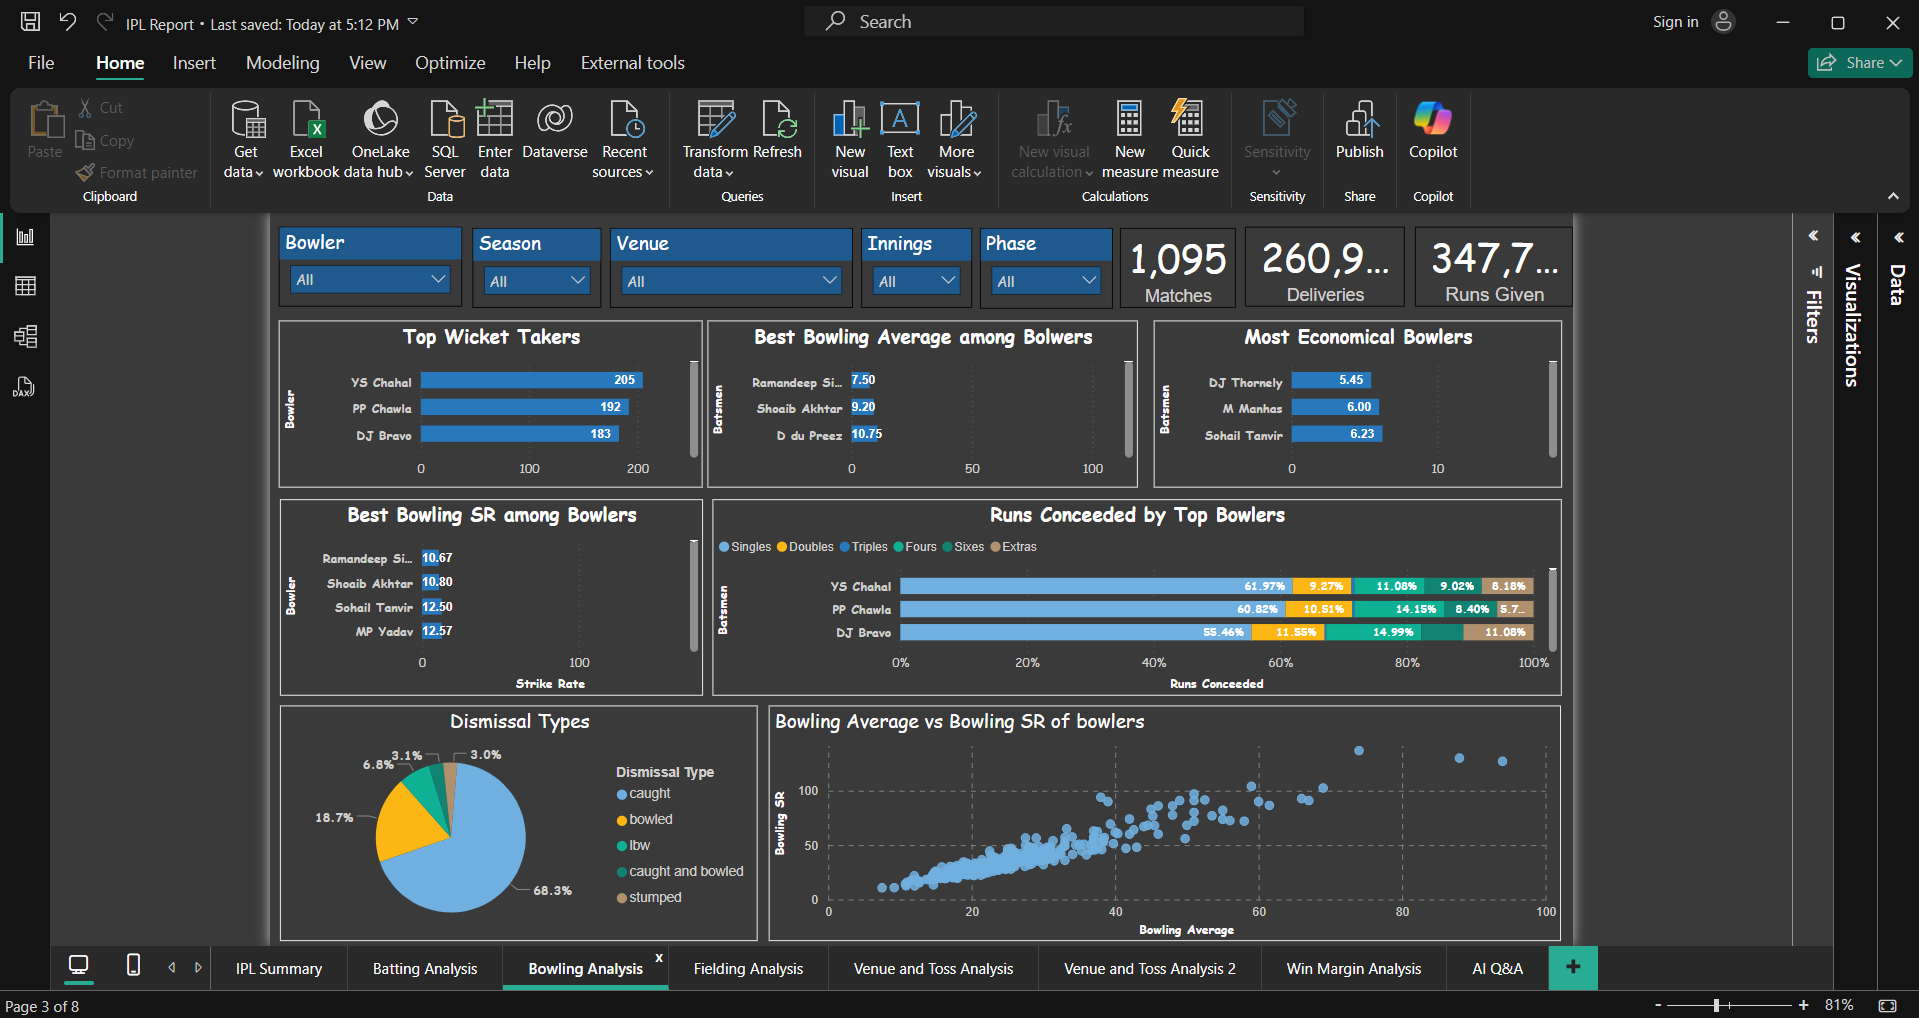

This screenshot's page, from the dashboard's own definition file:
{"tool":"powerbi","page":{"name":"Bowling Analysis","canvas":[1280,720],"ordinal":2},"visuals":[{"type":"slicer","title":"Bowler","fields":{"Values":["IPL_Ball_by_Ball.Bowler"]},"box":[8.4,13.3,179.7,78.4],"z":0},{"type":"clusteredBarChart","title":"Top Wicket Takers","fields":{"Category":["IPL_Ball_by_Ball.Bowler"],"Y":["IPL_Ball_by_Ball.IsBowler'sWicket"]},"box":[8.4,106.1,416.1,164],"z":1000},{"type":"clusteredBarChart","title":"Best Bowling Average among Bolwers","fields":{"Category":["IPL_Ball_by_Ball.Bowler"],"Y":["IPL_Ball_by_Ball.Bowling Average"]},"box":[429.3,106.1,422.1,164],"z":2000},{"type":"clusteredBarChart","title":"Most Economical Bowlers","fields":{"Category":["IPL_Ball_by_Ball.Bowler"],"Y":["IPL_Ball_by_Ball.ECO"]},"box":[867.1,106.1,400.4,164],"z":3000},{"type":"clusteredBarChart","title":"Best Bowling SR among Bowlers","fields":{"Y":["IPL_Ball_by_Ball.BOWSR"],"Category":["IPL_Ball_by_Ball.Bowler"]},"box":[9.6,281,414.9,193],"z":4000},{"type":"hundredPercentStackedBarChart","title":"Runs Conceeded by Top Bowlers","fields":{"Y":["IPL_Ball_by_Ball.Singles","IPL_Ball_by_Ball.Doubles","IPL_Ball_by_Ball.Triples","IPL_Ball_by_Ball.Fours","IPL_Ball_by_Ball.Sixes","IPL_Ball_by_Ball.ExtrasRun"],"Category":["IPL_Ball_by_Ball.Bowler"]},"box":[434.2,281,833.4,193],"z":5000},{"type":"slicer","title":"Season","fields":{"Values":["IPL_Matches.Season"]},"box":[199,14.5,126.6,78.4],"z":6000},{"type":"slicer","title":"Venue","fields":{"Values":["IPL_Matches.Venue"]},"box":[334.1,14.5,238.8,78.4],"z":7000},{"type":"slicer","title":"Innings","fields":{"Values":["IPL_Ball_by_Ball.Innings"]},"box":[580.1,14.5,108.5,78.4],"z":8000},{"type":"scatterChart","title":"Bowling Average vs Bowling SR of bowlers","fields":{"Category":["IPL_Ball_by_Ball.Bowler"],"Y":["IPL_Ball_by_Ball.BOWSR"],"X":["IPL_Ball_by_Ball.BOWAVE"]},"box":[489.6,483.6,777.9,231.6],"z":9000},{"type":"pieChart","title":"Dismissal Types","fields":{"Category":["IPL_Ball_by_Ball.Kind"],"Y":["IPL_Ball_by_Ball.Wickets"]},"box":[9.6,483.6,469.1,231.6],"z":10000},{"type":"card","fields":{"Values":["IPL_Ball_by_Ball.ID"]},"box":[834.6,14.5,113.4,78.4],"z":11000},{"type":"card","fields":{"Values":["IPL_Ball_by_Ball.BallNumber"]},"box":[955.8,13.5,157.1,78.5],"z":12000},{"type":"card","fields":{"Values":["IPL_Ball_by_Ball.Total Runs"]},"box":[1124,13.3,155.6,78.4],"z":13000},{"type":"slicer","title":"Phase","fields":{"Values":["IPL_Ball_by_Ball.Phase"]},"box":[697.1,14.5,130.3,79.6],"z":14000}]}

Visuals, with their boxes on the page's 1280x720 design canvas (x1, y1, x2, y2). These are canvas units, not pixel positions in the 1919x1018 screenshot, which may show the page scaled, cropped or inside an application window:
"Bowler" slicer: <region>8, 13, 188, 92</region>
"Top Wicket Takers" clusteredBarChart: <region>8, 106, 424, 270</region>
"Best Bowling Average among Bolwers" clusteredBarChart: <region>429, 106, 851, 270</region>
"Most Economical Bowlers" clusteredBarChart: <region>867, 106, 1268, 270</region>
"Best Bowling SR among Bowlers" clusteredBarChart: <region>10, 281, 424, 474</region>
"Runs Conceeded by Top Bowlers" hundredPercentStackedBarChart: <region>434, 281, 1268, 474</region>
"Season" slicer: <region>199, 14, 326, 93</region>
"Venue" slicer: <region>334, 14, 573, 93</region>
"Innings" slicer: <region>580, 14, 689, 93</region>
"Bowling Average vs Bowling SR of bowlers" scatterChart: <region>490, 484, 1268, 715</region>
"Dismissal Types" pieChart: <region>10, 484, 479, 715</region>
card - IPL_Ball_by_Ball.ID: <region>835, 14, 948, 93</region>
card - IPL_Ball_by_Ball.BallNumber: <region>956, 14, 1113, 92</region>
card - IPL_Ball_by_Ball.Total Runs: <region>1124, 13, 1280, 92</region>
"Phase" slicer: <region>697, 14, 827, 94</region>
